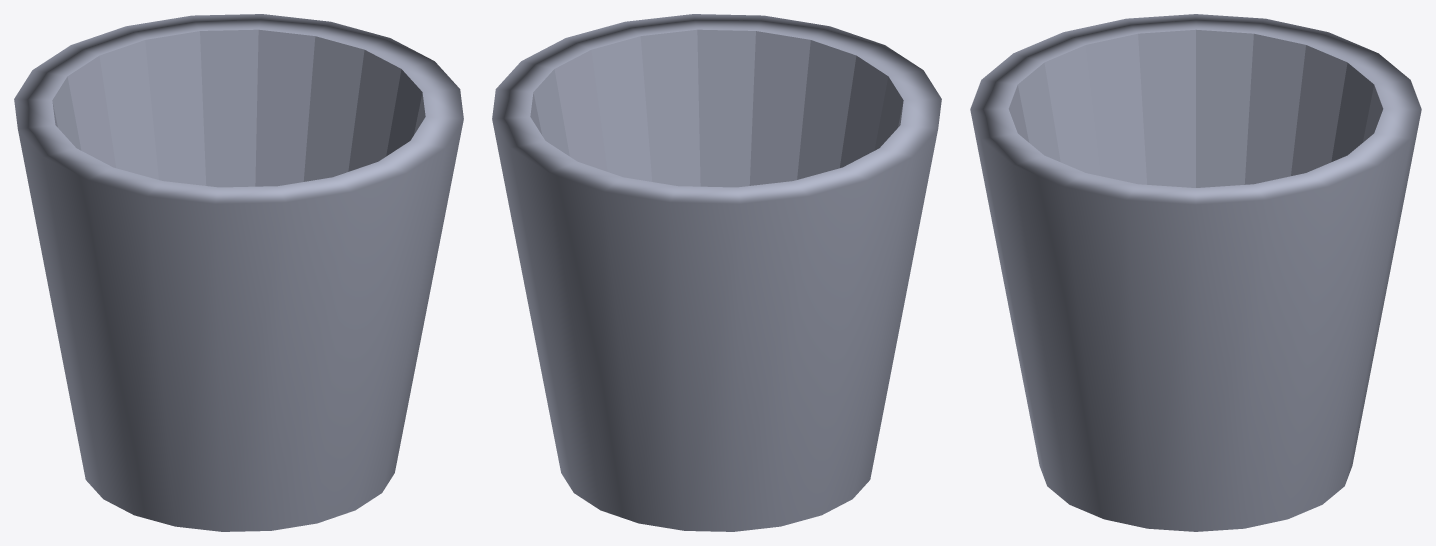
File: TrashCan.fbx
3 renders of one model, left to right at view 1: azimuth 30°, elevation 25°; view 2: azimuth 150°, elevation 25°; view 3: azimuth 270°, elevation 25°, orthographic.
Visible parts, largest first — view 1: pCylinder1; view 2: pCylinder1; view 3: pCylinder1.
Part boxes in pixels (x1=…): pCylinder1: x1=14, y1=14, x2=463, y2=531; pCylinder1: x1=492, y1=14, x2=941, y2=531; pCylinder1: x1=970, y1=14, x2=1421, y2=531.
Bounding box in the file's own units: 8.02 × 6.99 × 8.02.
